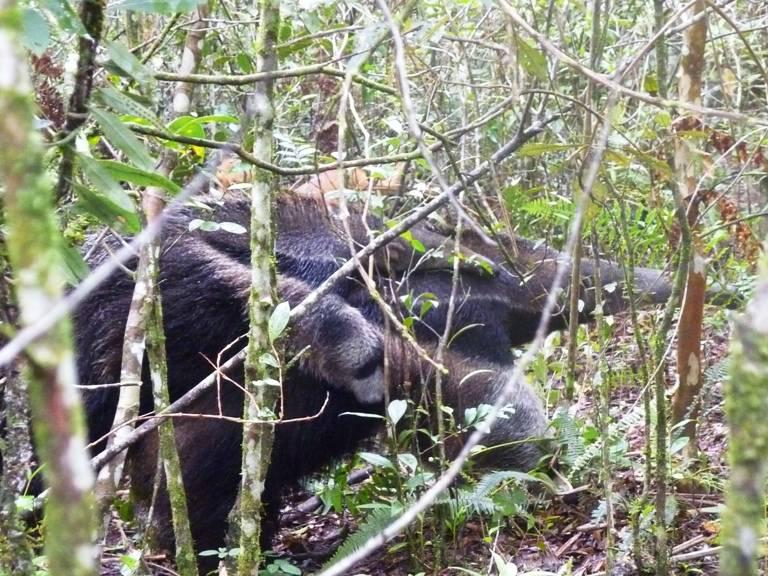TamanduaBandeira: (75, 198, 736, 552), (142, 204, 501, 406)
